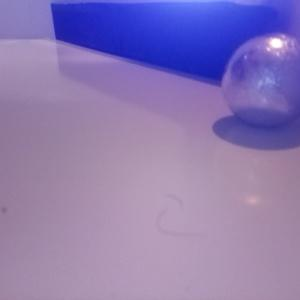alive_ball: (221, 32, 300, 128)
